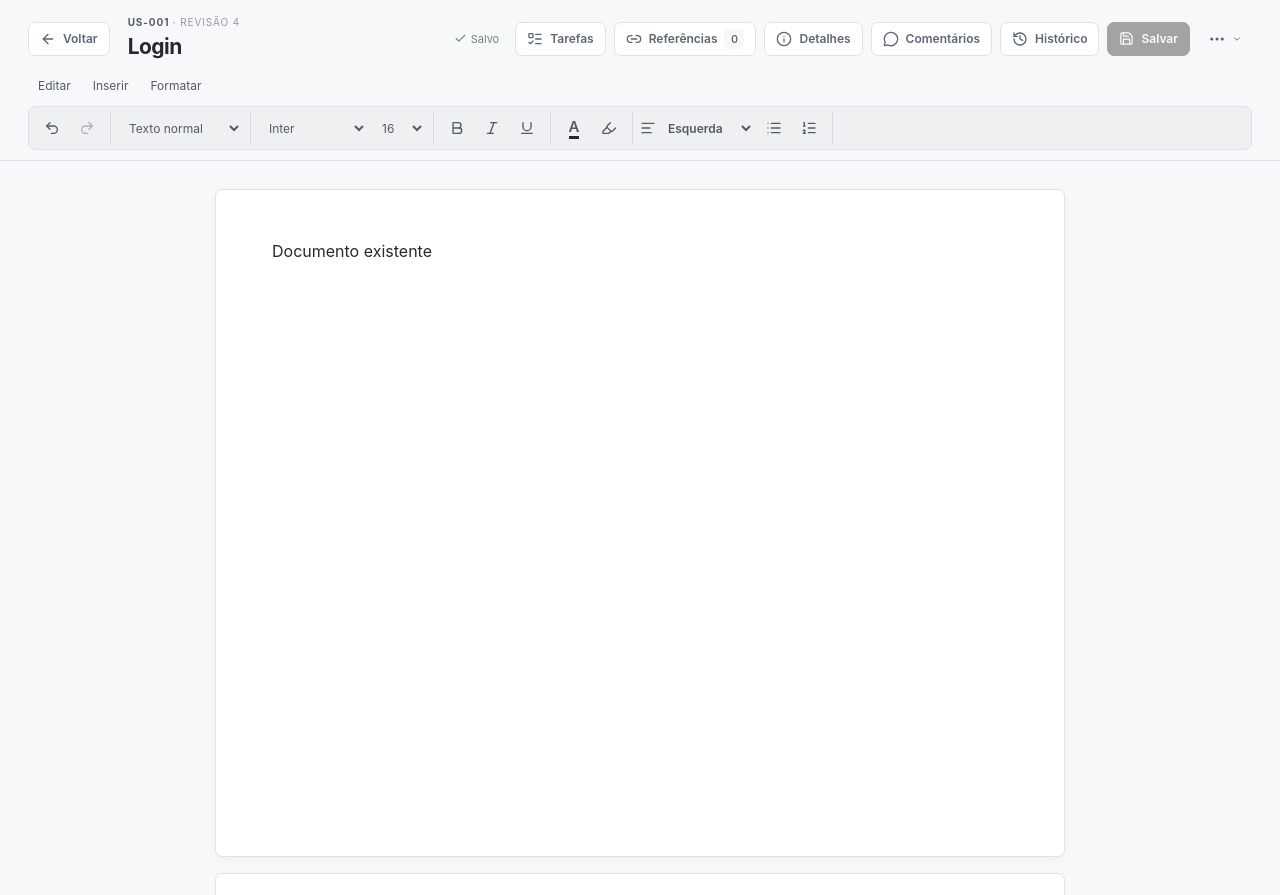
Test: requirement document workflow › keeps empty acceptance criteria collapsed and reports an empty relations state
Click the button "Referências 0".
click(685, 38)  # box [614, 22, 756, 56]
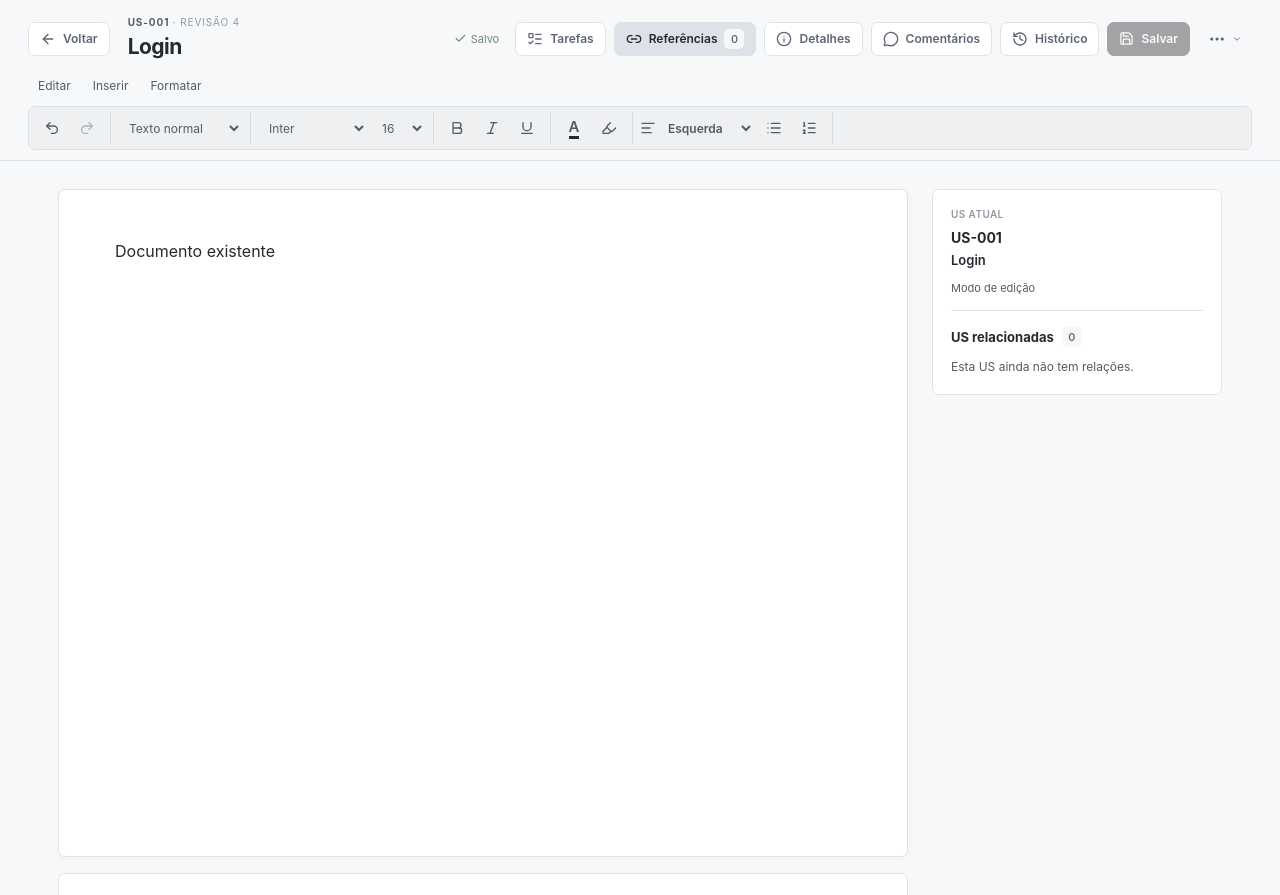
Result: the element with class "related-stories-panel" shows "Esta US ainda não tem relações." at [951, 359, 1134, 374]
